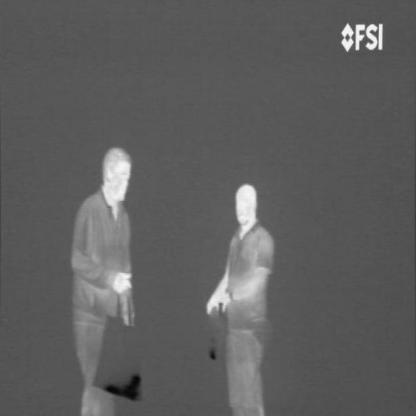weapon: (104, 369, 143, 403)
